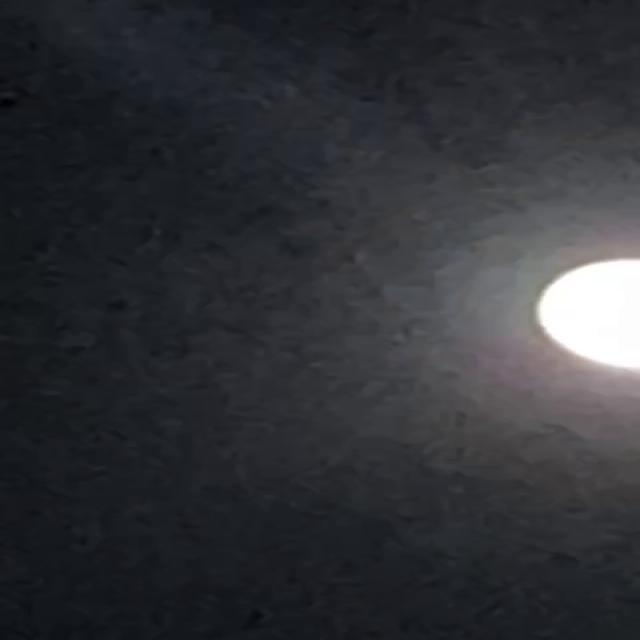moon: (403, 243, 629, 364)
